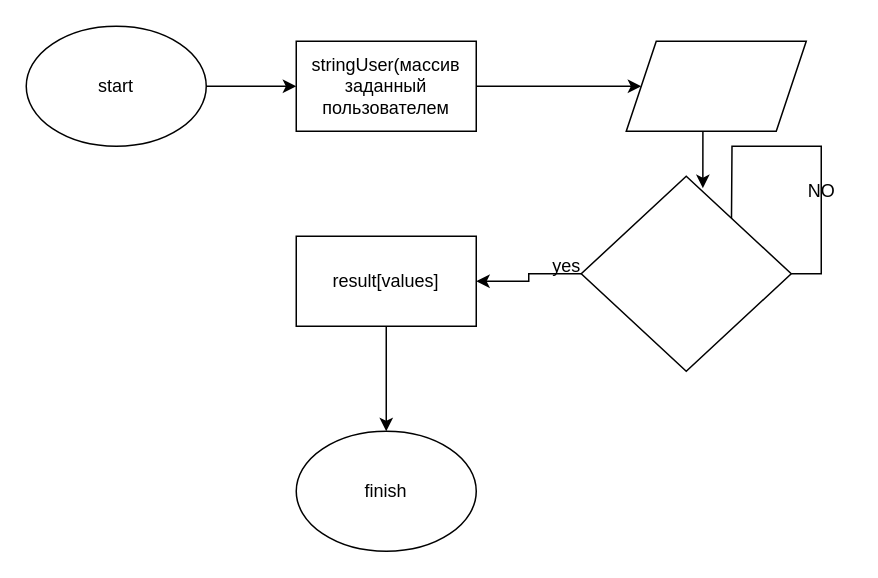
The diagram is 878 pixels wide and 578 high, and some of its shapes have lost their labels. Here are the shapes that lost their labels. From the top down, the centre of each, then its label:
At pixel 715 85: "stringUser=Array[ ]".
At pixel 685 273: "foreach Array[value] if value.length <=3".
